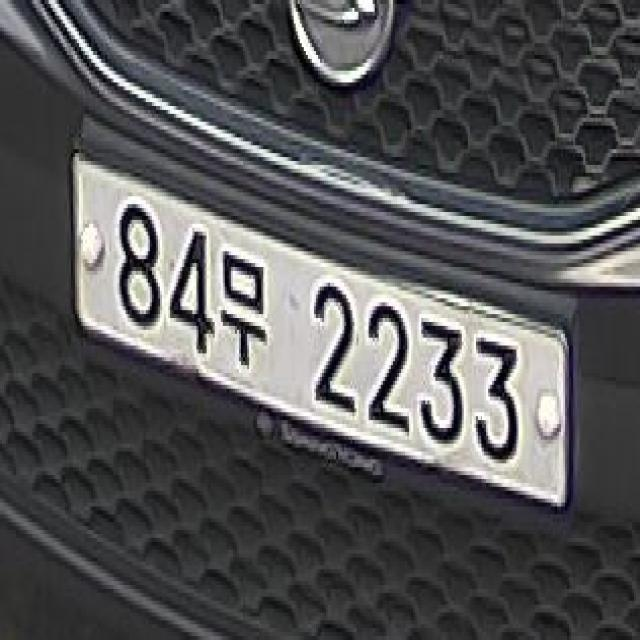plat: (69, 144, 576, 510)
